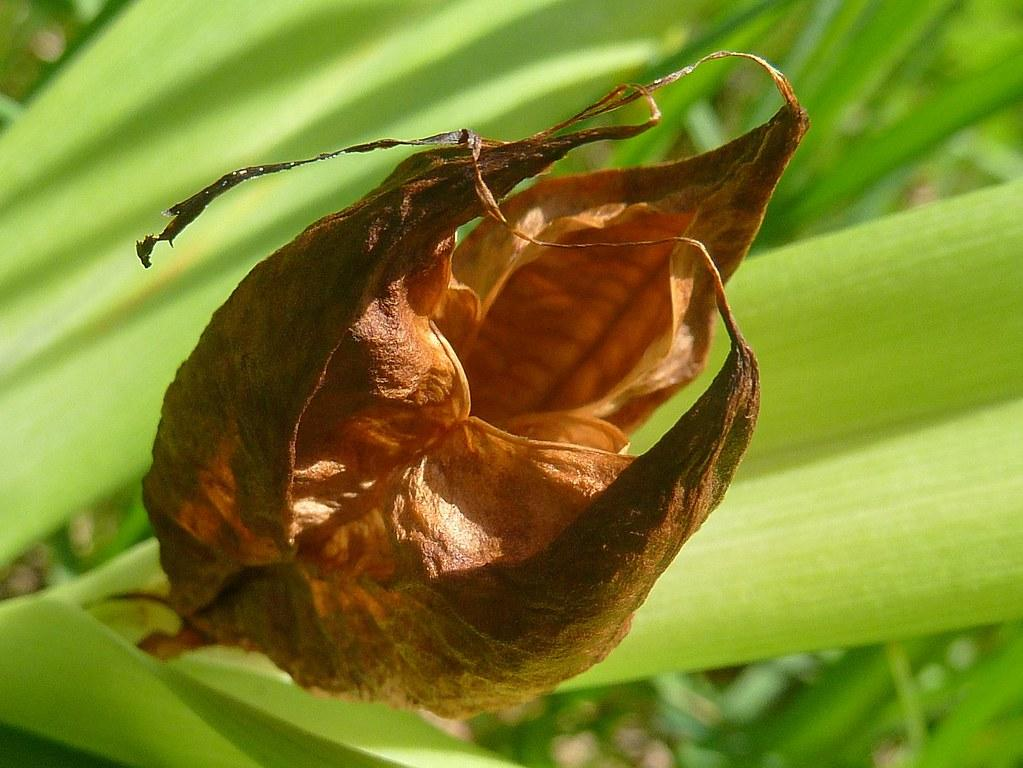Colchicum autumnale L: (112, 52, 870, 768)
